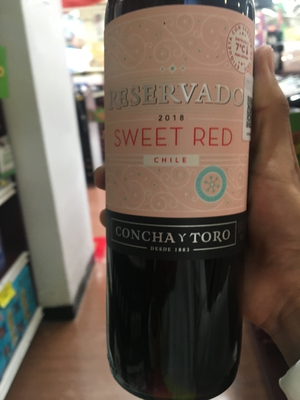reservado sweet red: (101, 2, 256, 389)
